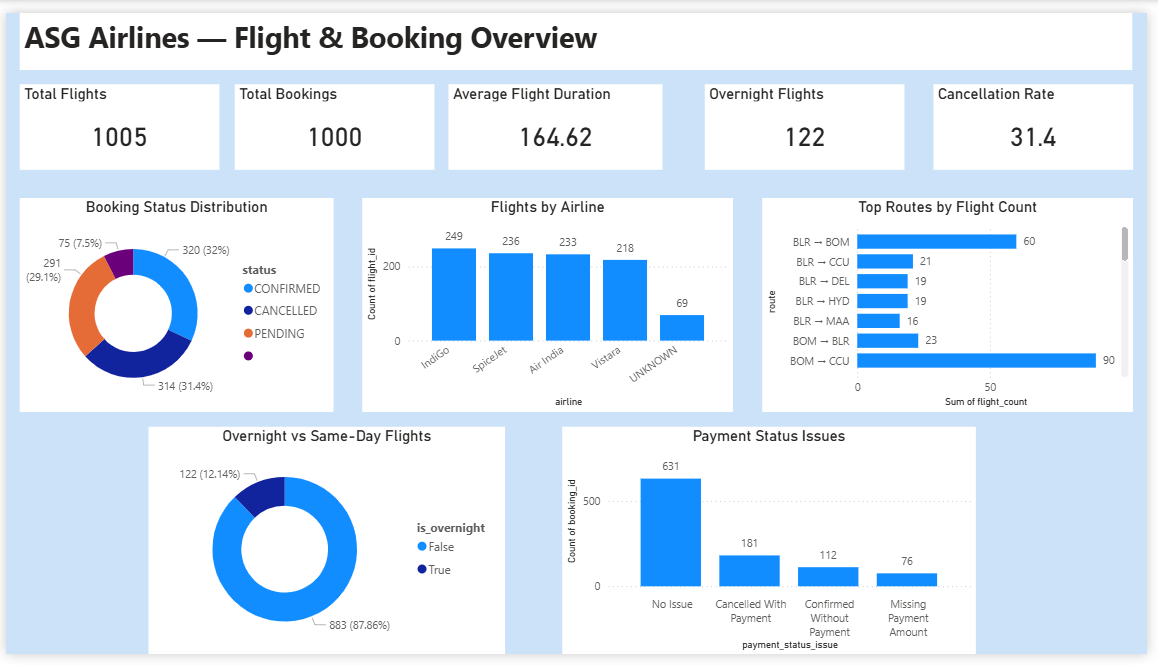

The dashboard page shown, as its layout file describes it:
{"tool":"powerbi","page":{"name":"Overview","canvas":[1280,720],"ordinal":0},"visuals":[{"type":"card","title":"Total Flights","fields":{"Values":["Sum(ASG_kpi_summary.Value)"]},"box":[16,80,224,96],"z":0},{"type":"card","title":"Total Bookings","fields":{"Values":["Sum(ASG_kpi_summary.Value)"]},"box":[256,80,224,96],"z":1000},{"type":"card","title":"Average Flight Duration","fields":{"Values":["Sum(ASG_kpi_summary.Value)"]},"box":[496,80,240,96],"z":2000},{"type":"card","title":"Overnight Flights","fields":{"Values":["Sum(ASG_kpi_summary.Value)"]},"box":[784,80,224,96],"z":3000},{"type":"card","title":"Cancellation Rate","fields":{"Values":["Sum(ASG_kpi_summary.Value)"]},"box":[1040,80,224,96],"z":4000},{"type":"donutChart","title":"Booking Status Distribution","fields":{"Category":["ASG_protected_booking_analytics.status"],"Y":["CountNonNull(ASG_protected_booking_analytics.booking_id)"]},"box":[16,208,352,240],"z":5000},{"type":"clusteredColumnChart","title":"Flights by Airline","fields":{"Category":["ASG_flight_analytics.airline"],"Y":["CountNonNull(ASG_flight_analytics.flight_id)"]},"box":[400,208,416,240],"z":6000},{"type":"clusteredBarChart","title":"Top Routes by Flight Count","fields":{"Category":["ASG_route_performance.route"],"Y":["Sum(ASG_route_performance.flight_count)"]},"box":[848,208,416,240],"z":7000},{"type":"donutChart","title":"Overnight vs Same-Day Flights","fields":{"Category":["ASG_flight_analytics.is_overnight"],"Y":["CountNonNull(ASG_flight_analytics.flight_id)"]},"box":[160,464,400,256],"z":8000},{"type":"clusteredColumnChart","title":"Payment Status Issues","fields":{"Category":["ASG_protected_booking_analytics.payment_status_issue"],"Y":["CountNonNull(ASG_protected_booking_analytics.booking_id)"]},"box":[624,464,464,256],"z":9000},{"type":"textbox","box":[16,0,1248,64],"z":11000}]}

Visuals, with their boxes in screenshot pixels (x1, y1, x2, y2), scaled from the page's 1280x720 canvas onto the 1158x665 screenshot:
"Total Flights" card: bbox(14, 74, 217, 163)
"Total Bookings" card: bbox(232, 74, 434, 163)
"Average Flight Duration" card: bbox(449, 74, 666, 163)
"Overnight Flights" card: bbox(709, 74, 912, 163)
"Cancellation Rate" card: bbox(941, 74, 1144, 163)
"Booking Status Distribution" donutChart: bbox(14, 192, 333, 414)
"Flights by Airline" clusteredColumnChart: bbox(362, 192, 738, 414)
"Top Routes by Flight Count" clusteredBarChart: bbox(767, 192, 1144, 414)
"Overnight vs Same-Day Flights" donutChart: bbox(145, 429, 507, 664)
"Payment Status Issues" clusteredColumnChart: bbox(565, 429, 984, 664)
textbox: bbox(14, 0, 1144, 59)
